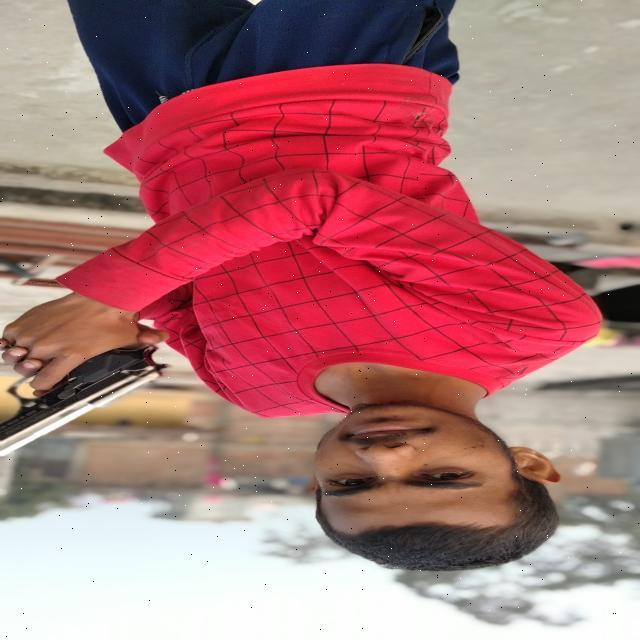gun: (4, 329, 179, 460)
